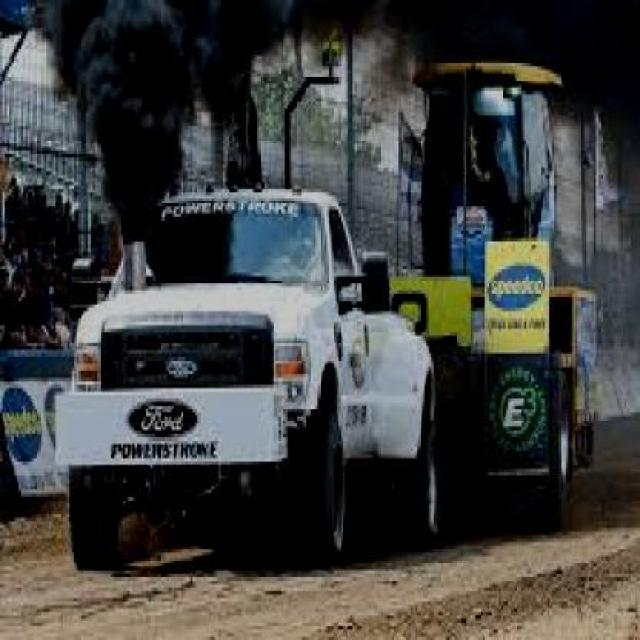Smoke: (40, 0, 335, 235), (341, 0, 640, 127)
